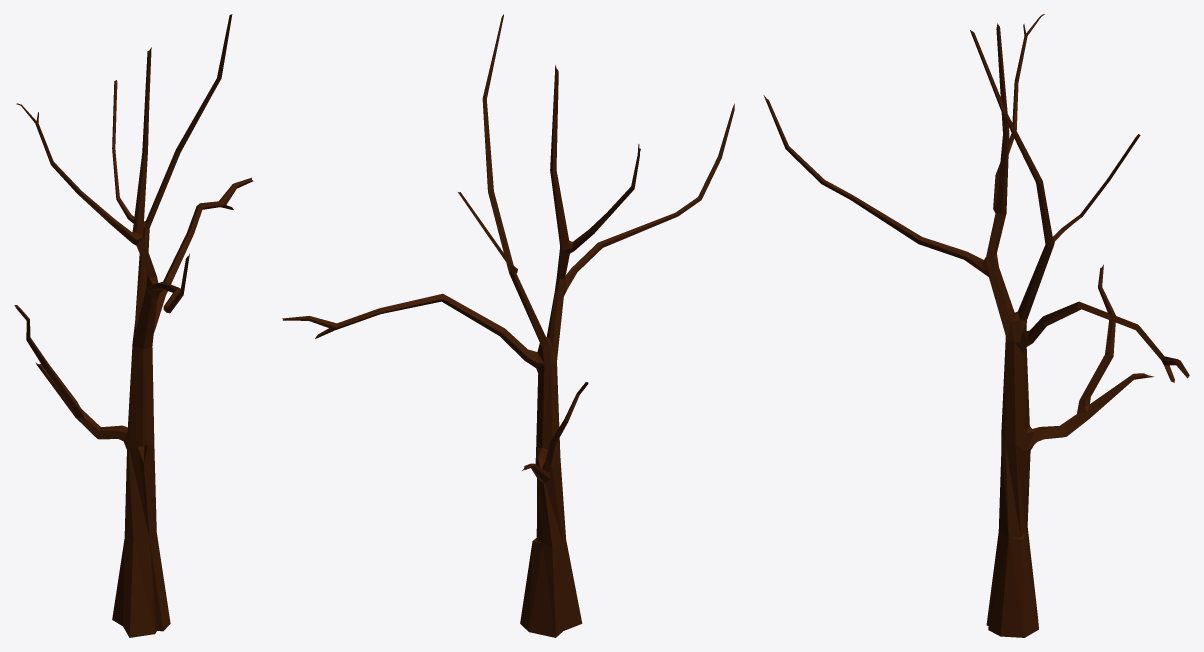
The model's file is deadWinterTree2.fbx.
The picture shows the model from 3 angles, left to right: view 1: azimuth 30°, elevation 25°; view 2: azimuth 150°, elevation 25°; view 3: azimuth 270°, elevation 25°; orthographic projection. The views are drawn at different scales.
Parts seen in each view (by area): view 1: Low-poly trees.011; view 2: Low-poly trees.011; view 3: Low-poly trees.011.
Boxes of the visible parts, x1=… form: Low-poly trees.011: x1=14, y1=14, x2=253, y2=637; Low-poly trees.011: x1=282, y1=14, x2=734, y2=637; Low-poly trees.011: x1=763, y1=14, x2=1189, y2=637.
Bounding box in the file's own units: 107 × 203 × 125.
